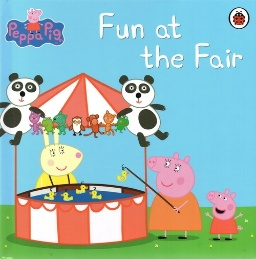Peppa: (204, 188, 243, 241)
